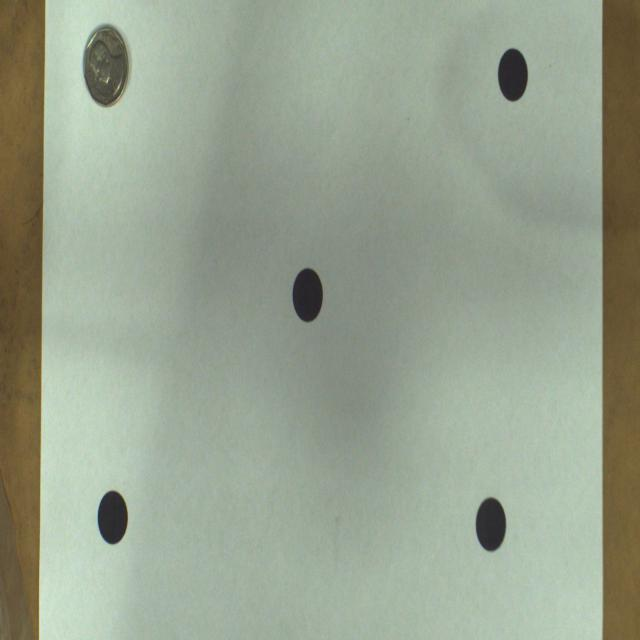head5bath: (84, 27, 129, 104)
space: (498, 49, 528, 102), (476, 498, 506, 551), (98, 491, 128, 544), (292, 269, 322, 322)
